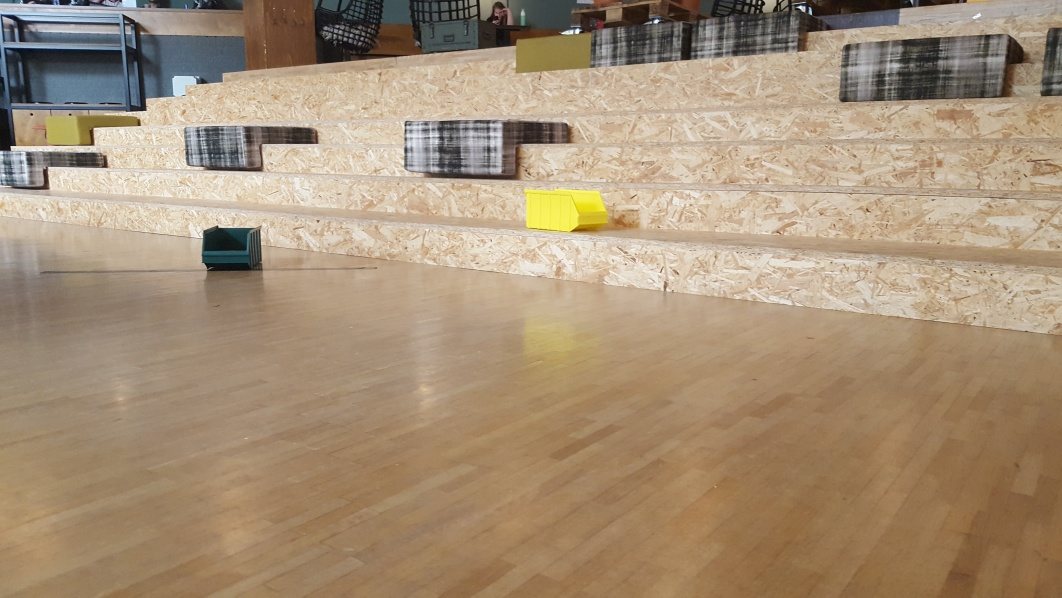tray: (521, 187, 610, 235), (198, 223, 261, 268)
